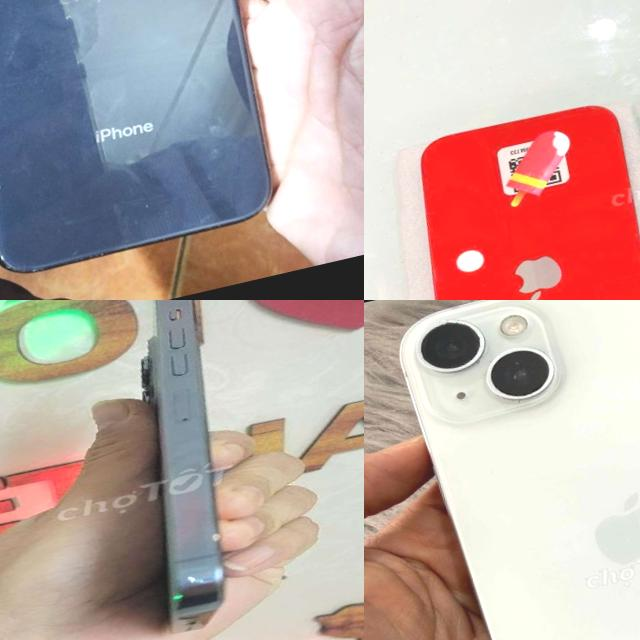gen_12_13: (89, 300, 286, 640)
gen_14: (387, 93, 640, 300)
gen_15: (380, 300, 640, 640)
gen_x_xs: (0, 0, 325, 300)
